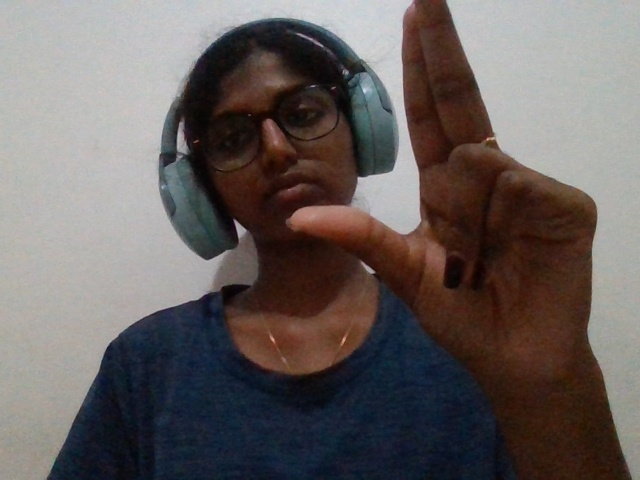No: (256, 1, 623, 417)
